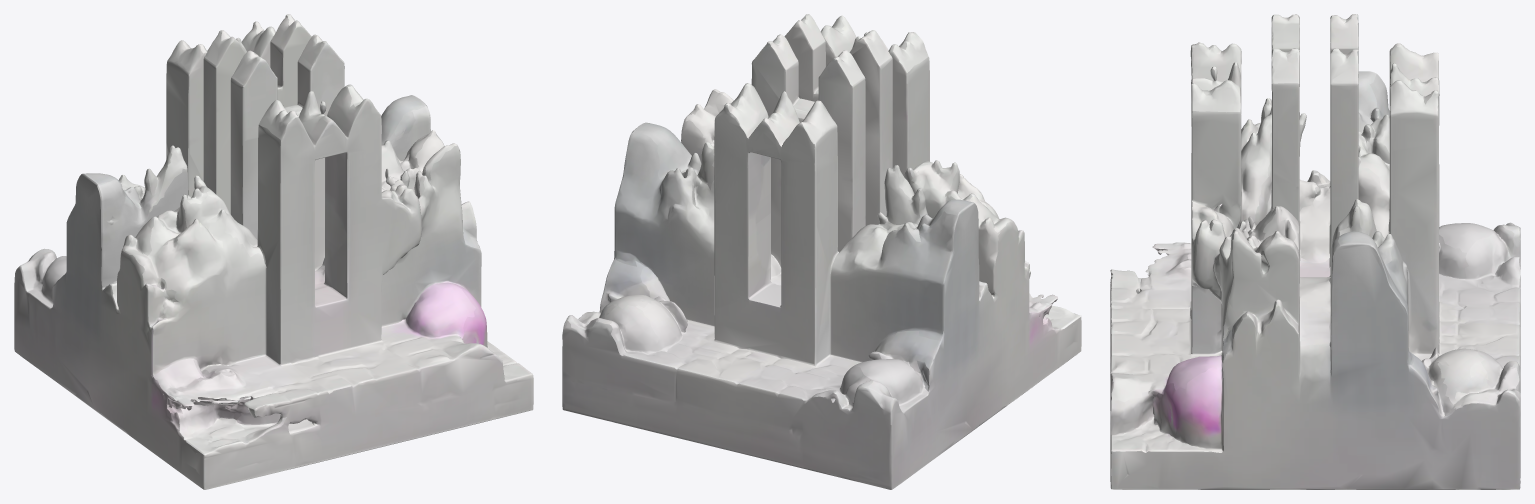
File: bifrost-approach-generated-2026-05-17T17-48-49-995Z.high.glb
3 views of the same model, side by side, from view 1: azimuth 30°, elevation 25°; view 2: azimuth 150°, elevation 25°; view 3: azimuth 270°, elevation 25° (orthographic). The views are drawn at different scales.
Parts seen in each view (by area): view 1: temp_mesh.ply; view 2: temp_mesh.ply; view 3: temp_mesh.ply.
Boxes of the visible parts, x1=… form: temp_mesh.ply: x1=14, y1=14, x2=533, y2=489; temp_mesh.ply: x1=562, y1=14, x2=1081, y2=489; temp_mesh.ply: x1=1110, y1=14, x2=1520, y2=489.
Size of the model in its own units: 1.98 by 1.97 by 1.98.
1 material, 1 textured.
